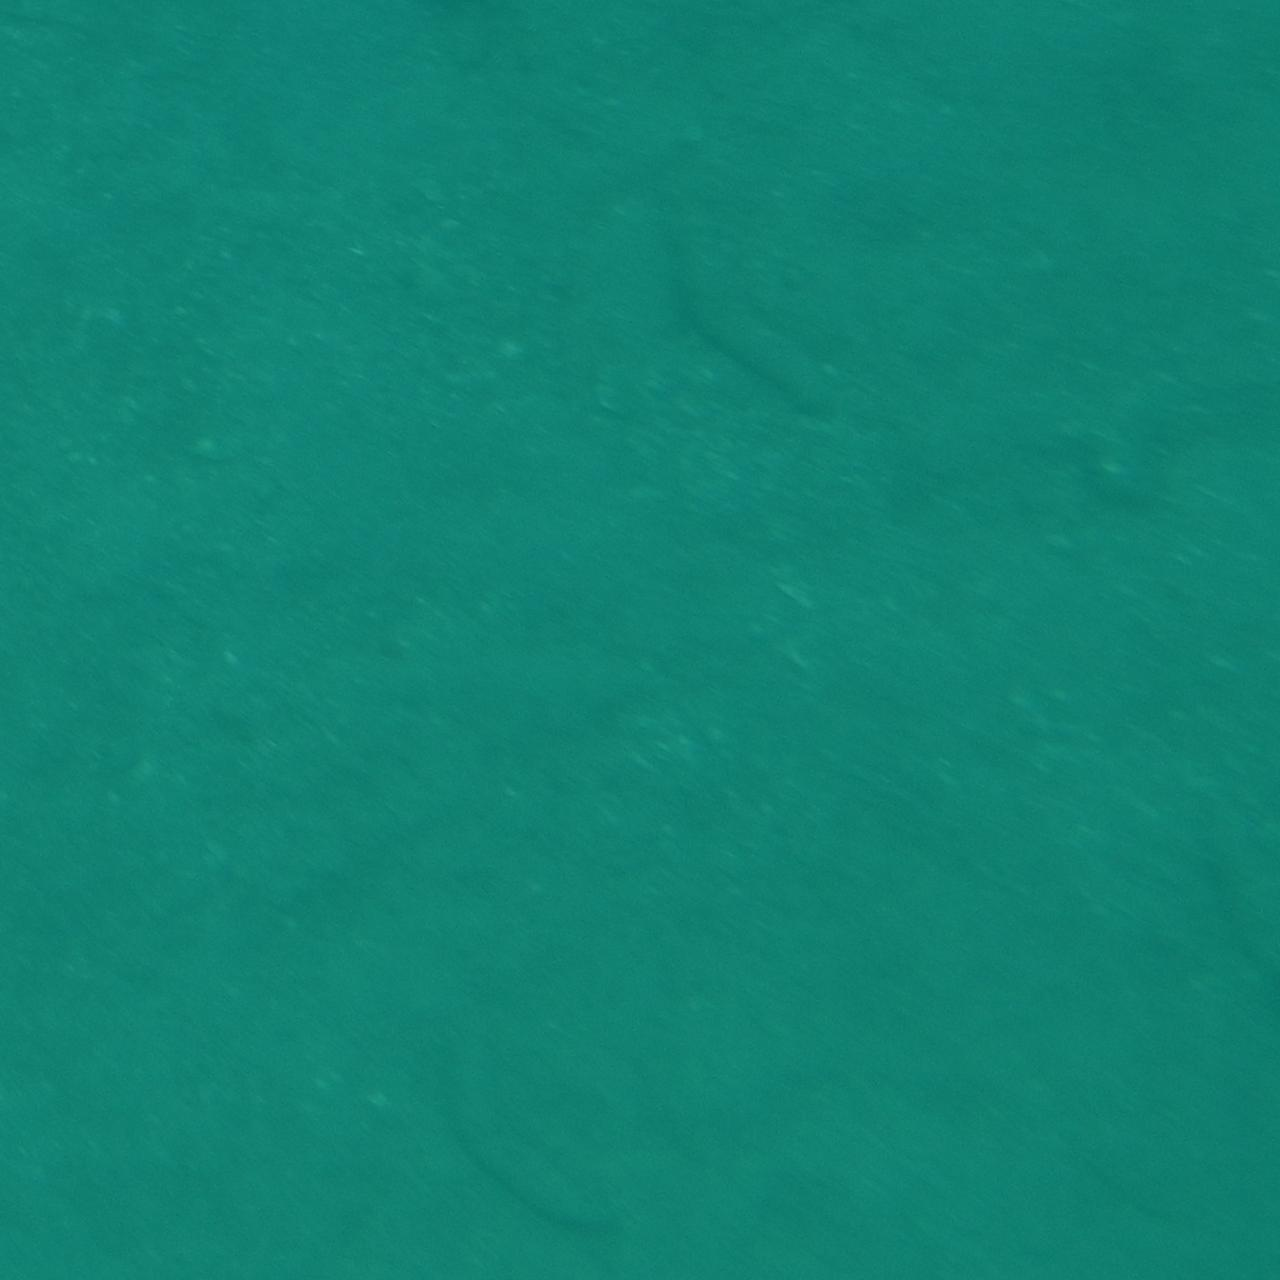Holothuria tubulosa: (631, 162, 867, 410), (447, 990, 617, 1280)
